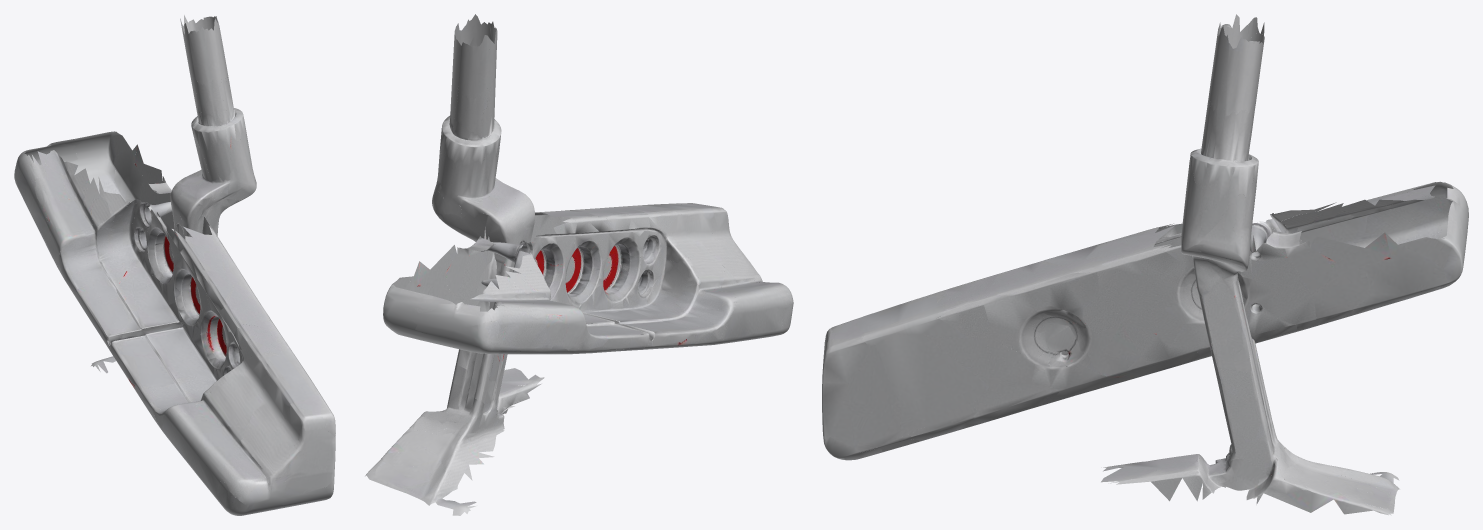
The model's file is putter_std.glb.
3 views of the same model, side by side, from view 1: azimuth 30°, elevation 25°; view 2: azimuth 150°, elevation 25°; view 3: azimuth 270°, elevation 25° (orthographic). The views are drawn at different scales.
Visible parts, largest first — view 1: pHead, pNeck; view 2: pHead, pNeck; view 3: pHead, pNeck.
Part boxes in pixels (<box>): pHead: <box>14,131,335,515</box>; pNeck: <box>91,15,256,373</box>; pHead: <box>383,203,793,354</box>; pNeck: <box>365,14,544,515</box>; pHead: <box>822,181,1468,460</box>; pNeck: <box>1101,14,1399,515</box>.
Bounding box in the file's own units: 0.0414 × 0.088 × 0.1063.
1 material, 1 textured.
